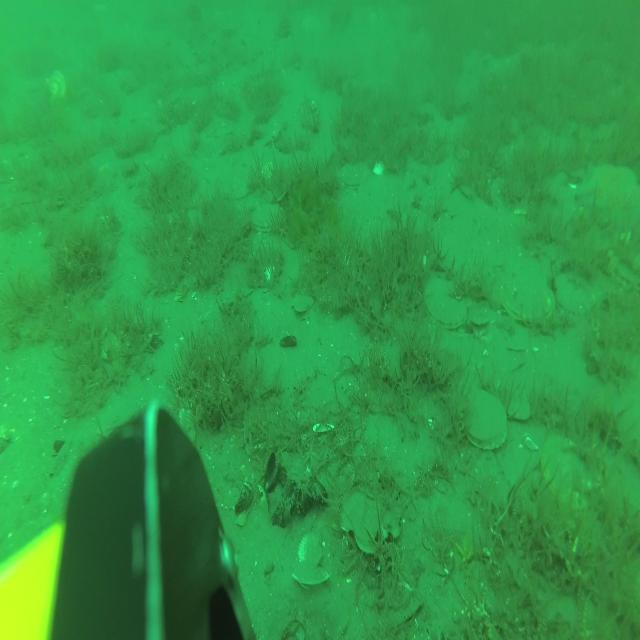scallop: (540, 430, 594, 514), (463, 386, 508, 449), (501, 275, 553, 324), (425, 276, 467, 328), (293, 531, 330, 587), (557, 274, 595, 317), (610, 253, 640, 290), (252, 200, 284, 234), (44, 69, 68, 106), (339, 160, 369, 186), (508, 394, 532, 423), (290, 292, 314, 314), (472, 308, 488, 328)
starfish: (578, 162, 640, 213)
